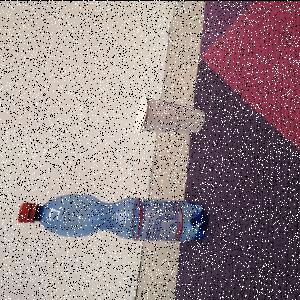Cup: (136, 96, 208, 134)
Plastic-bottle: (18, 193, 210, 243)
